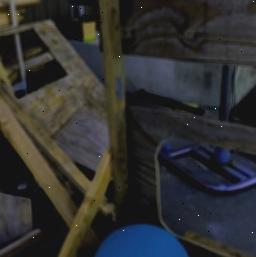algae: (87, 220, 193, 257)
